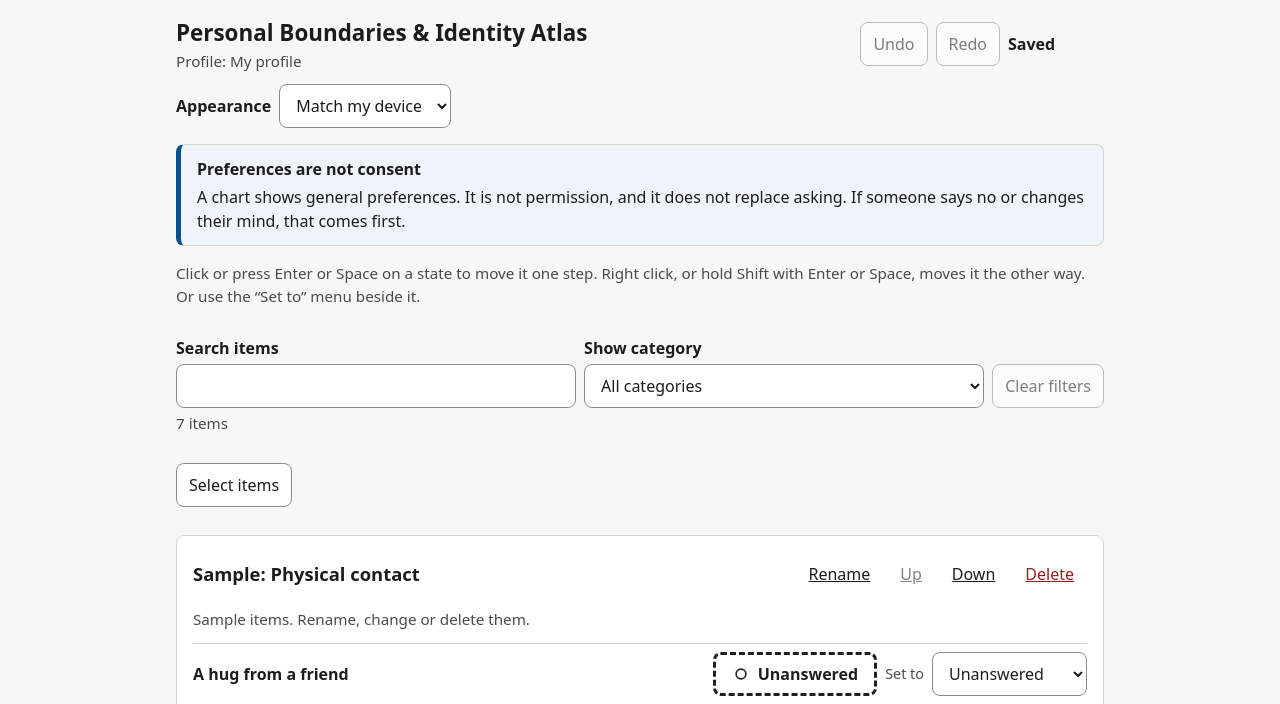
Test case: search (M2-05) › hides categories with nothing to show
Expected: the heading "Personal Boundaries & Identity Atlas" is shown, [176, 16, 588, 50]
Type "phone" into the search field labelled "Search items". click: (376, 386)
box: [176, 364, 576, 408]
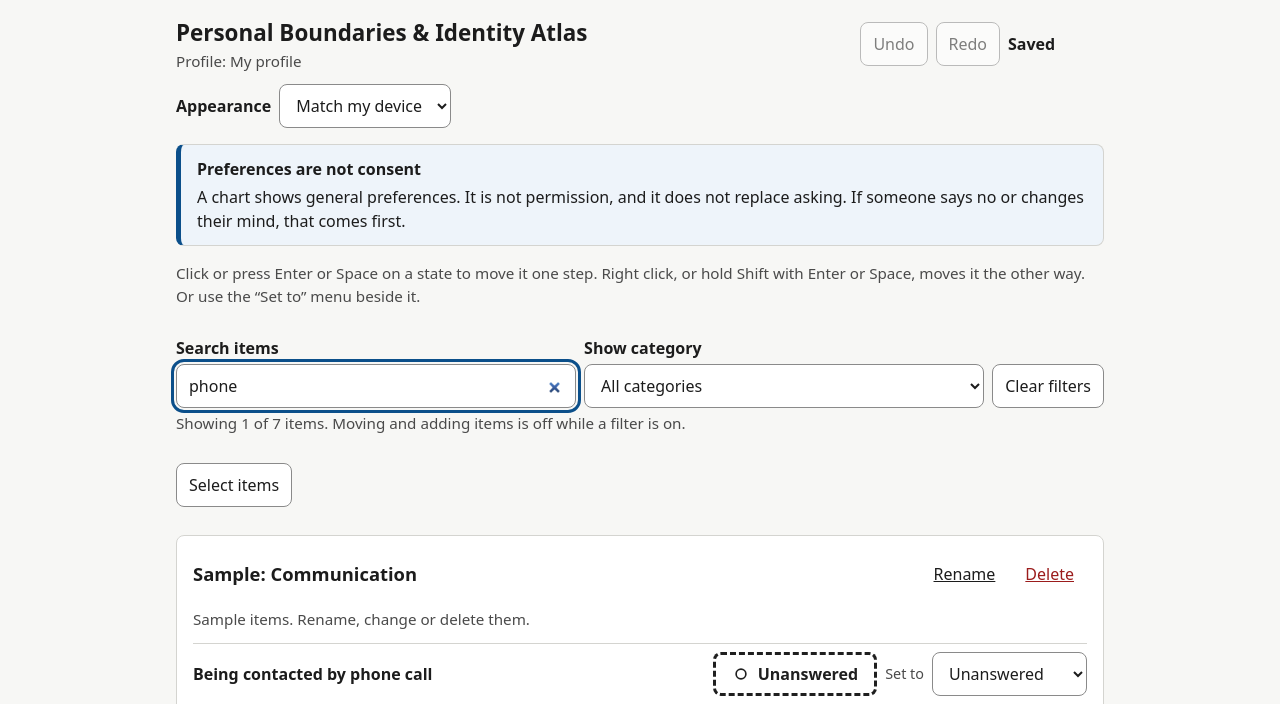
Expected: the heading "Sample: Communication" is shown, [193, 560, 417, 588]
Result: the heading "Sample: Physical contact" is gone
